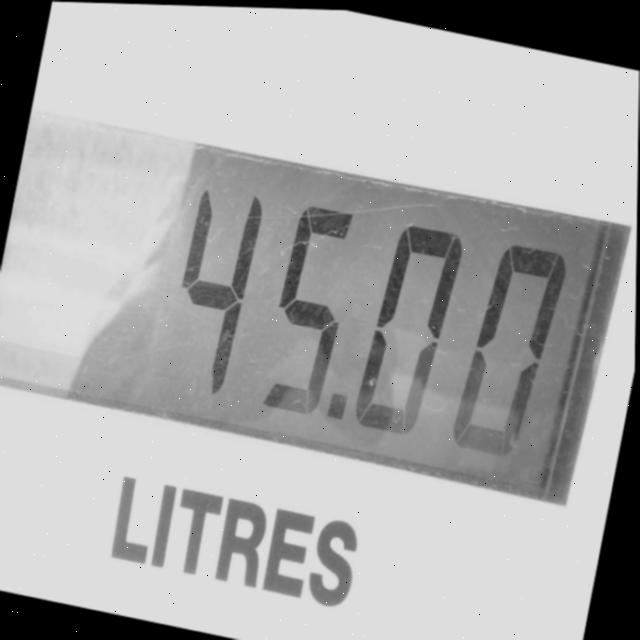.: (317, 379, 355, 439)
0: (451, 237, 573, 469), (355, 210, 468, 439)
4: (165, 197, 265, 398)
5: (265, 197, 364, 415)
